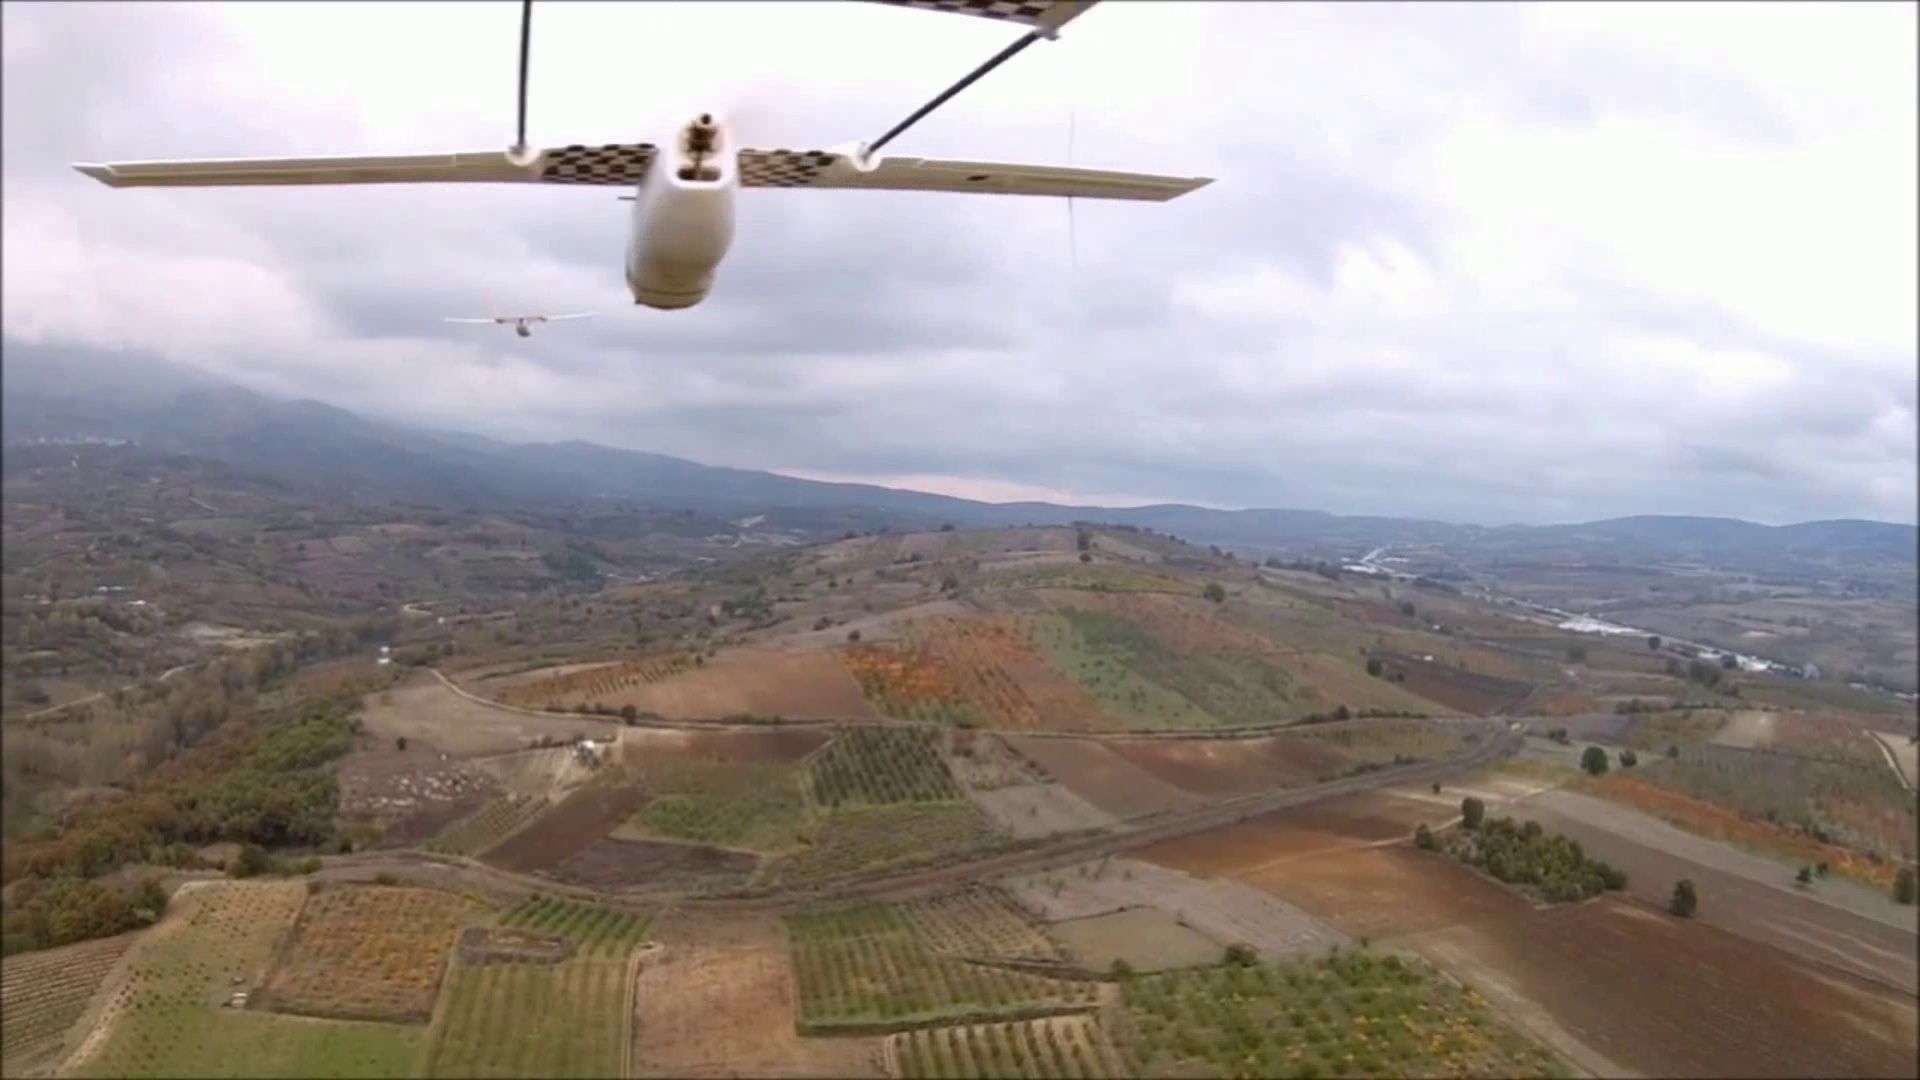airplane: (71, 3, 1214, 325)
